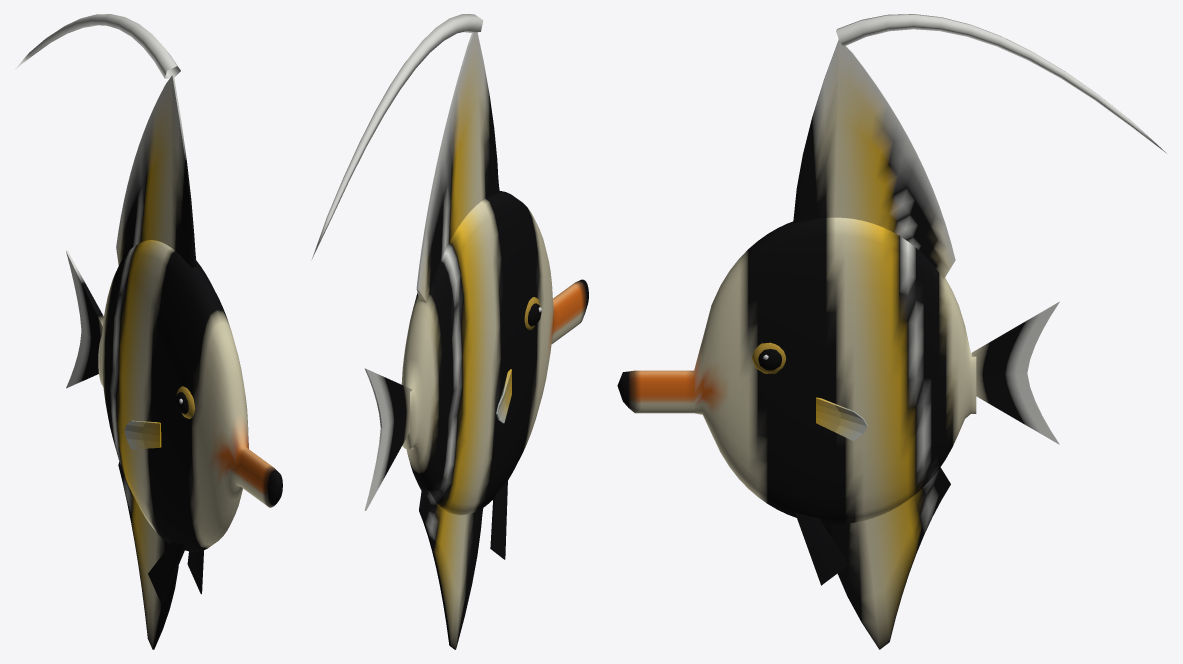
Rendered from MoorishIdol.fbx.
The picture shows the model from 3 angles, left to right: view 1: azimuth 30°, elevation 25°; view 2: azimuth 150°, elevation 25°; view 3: azimuth 270°, elevation 25°; orthographic projection. The views are drawn at different scales.
Visible parts, largest first — view 1: MoorishIdol; view 2: MoorishIdol; view 3: MoorishIdol.
Part boxes in pixels (x1,y1,x2,y2): MoorishIdol: (15, 14, 282, 649); MoorishIdol: (311, 14, 588, 649); MoorishIdol: (617, 14, 1166, 649).
Bounding box in the file's own units: 0.1805 × 1.51 × 1.19.
